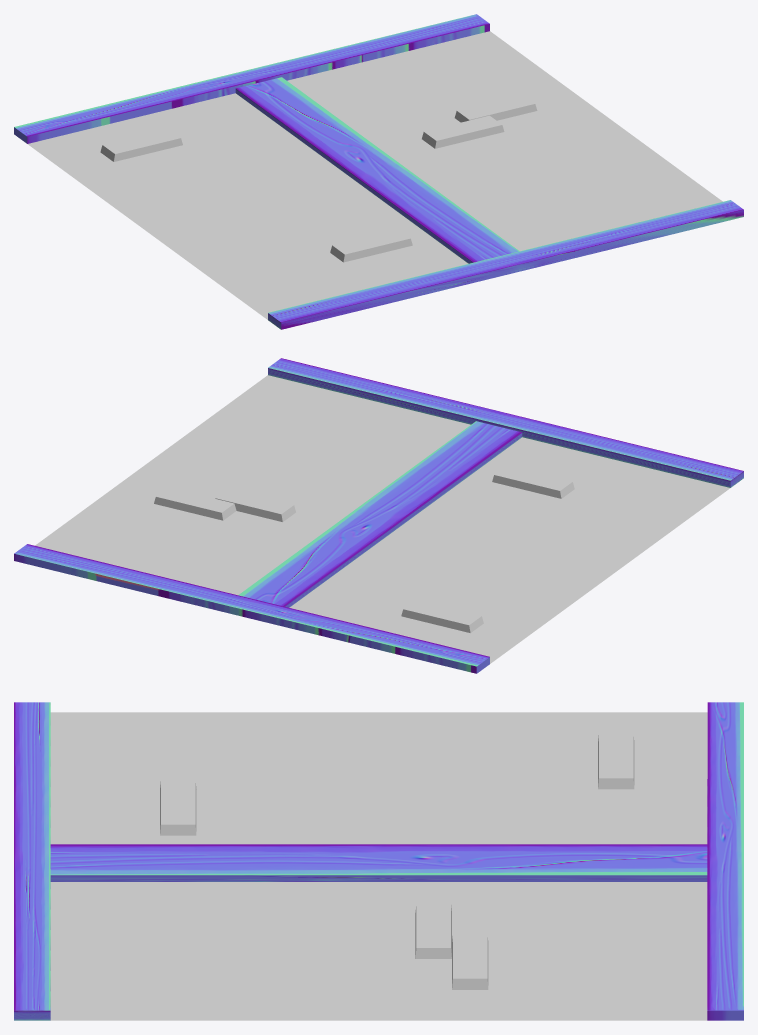
File: SM_Wall_A.fbx
3 renders of one model, top to bottom at view 1: azimuth 30°, elevation 25°; view 2: azimuth 150°, elevation 25°; view 3: azimuth 270°, elevation 25°, orthographic. The views are drawn at different scales.
Parts seen in each view (by area): view 1: SM_Wall_A; view 2: SM_Wall_A; view 3: SM_Wall_A.
Part boxes in pixels (x1,y1,x2,y2): SM_Wall_A: [14, 14, 743, 329]; SM_Wall_A: [14, 358, 743, 673]; SM_Wall_A: [14, 702, 743, 1020].
Bounding box in the file's own units: 200 × 3 × 200.
